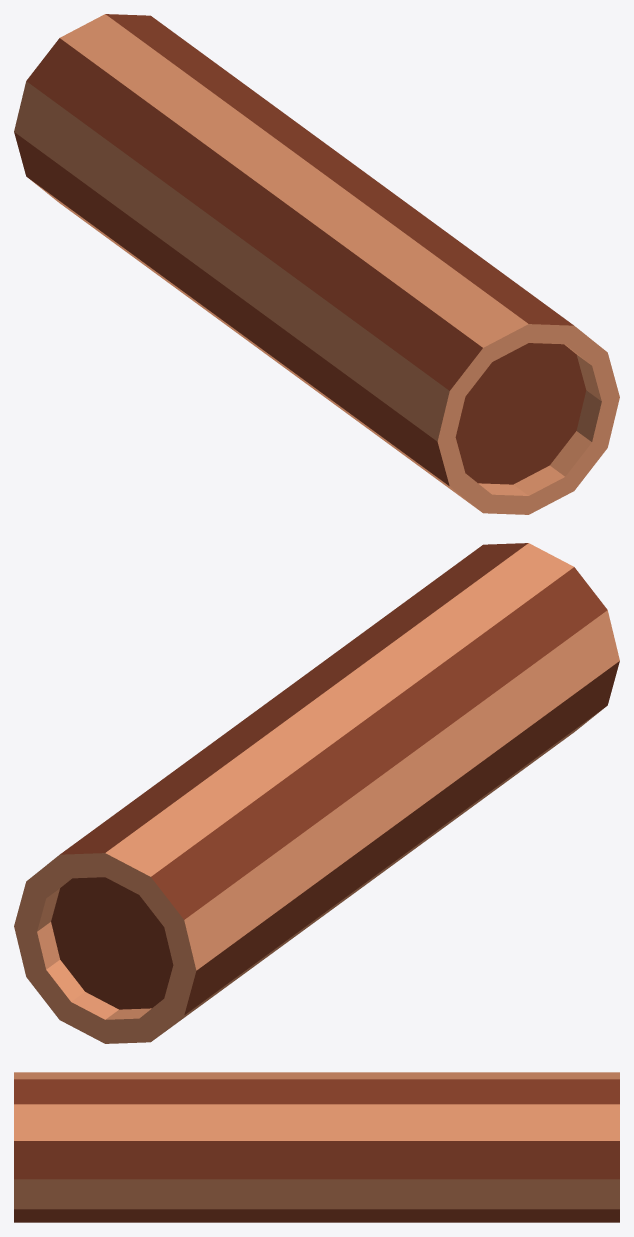
Rendered from MADEIRACORTADA.fbx.
3 views of the same model, one above another, from view 1: azimuth 30°, elevation 25°; view 2: azimuth 150°, elevation 25°; view 3: azimuth 270°, elevation 25° (orthographic). The views are drawn at different scales.
Parts seen in each view (by area): view 1: Cylinder.001; view 2: Cylinder.001; view 3: Cylinder.001.
Part boxes in pixels (<box>): Cylinder.001: <box>14,14,619,514</box>; Cylinder.001: <box>14,543,619,1043</box>; Cylinder.001: <box>14,1072,619,1222</box>.
Bounding box in the file's own units: 50.9 × 50.9 × 205.
